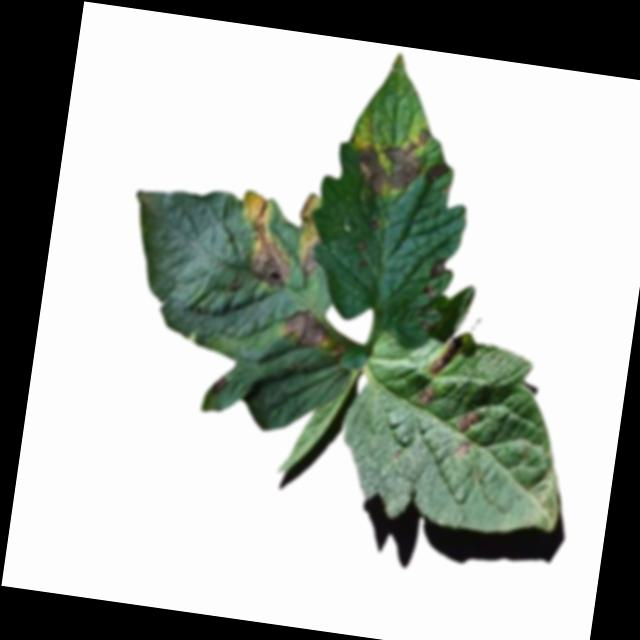Early_blight: (230, 189, 302, 289), (348, 119, 432, 202), (281, 307, 330, 346), (429, 337, 465, 378), (300, 232, 323, 276), (425, 158, 452, 188), (457, 408, 484, 435), (298, 191, 318, 227), (416, 384, 439, 408), (429, 257, 450, 282), (455, 439, 472, 462), (211, 375, 228, 394), (366, 217, 381, 234), (355, 239, 370, 254)
